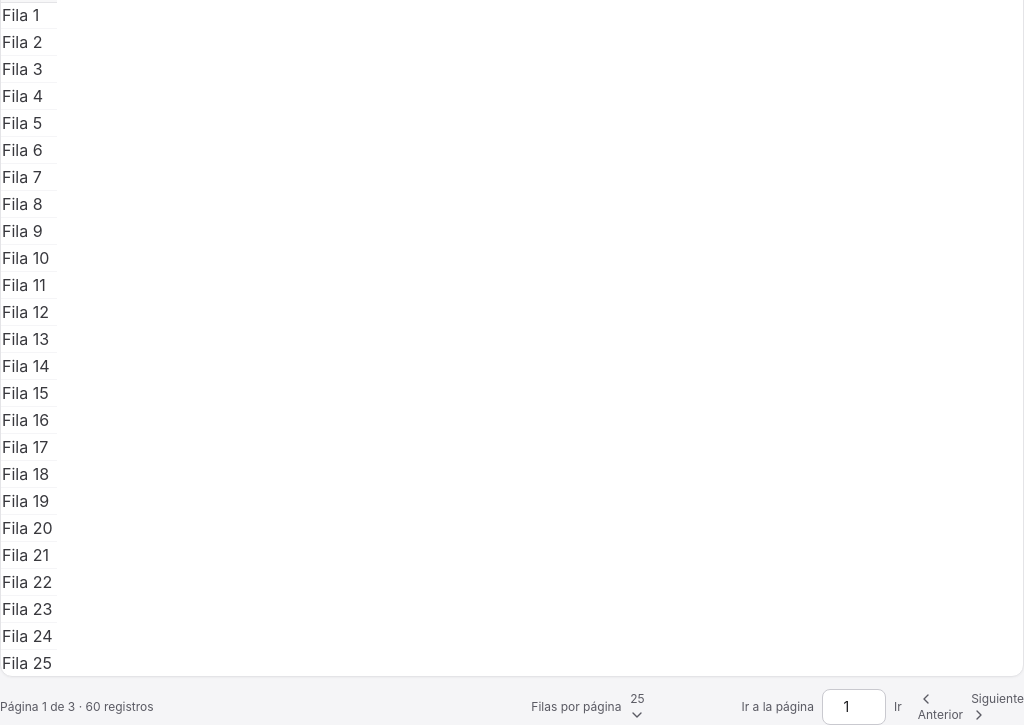
Test: DataTable · paginación › va directo a la página pedida y acota lo que se pasa del total
This screenshot has width=1024, height=725.
(page scrolled)
Replace the text in the number field named "Número de página" with "99" at (854, 706), box [822, 688, 886, 724]
Then press Enter
(page scrolled)
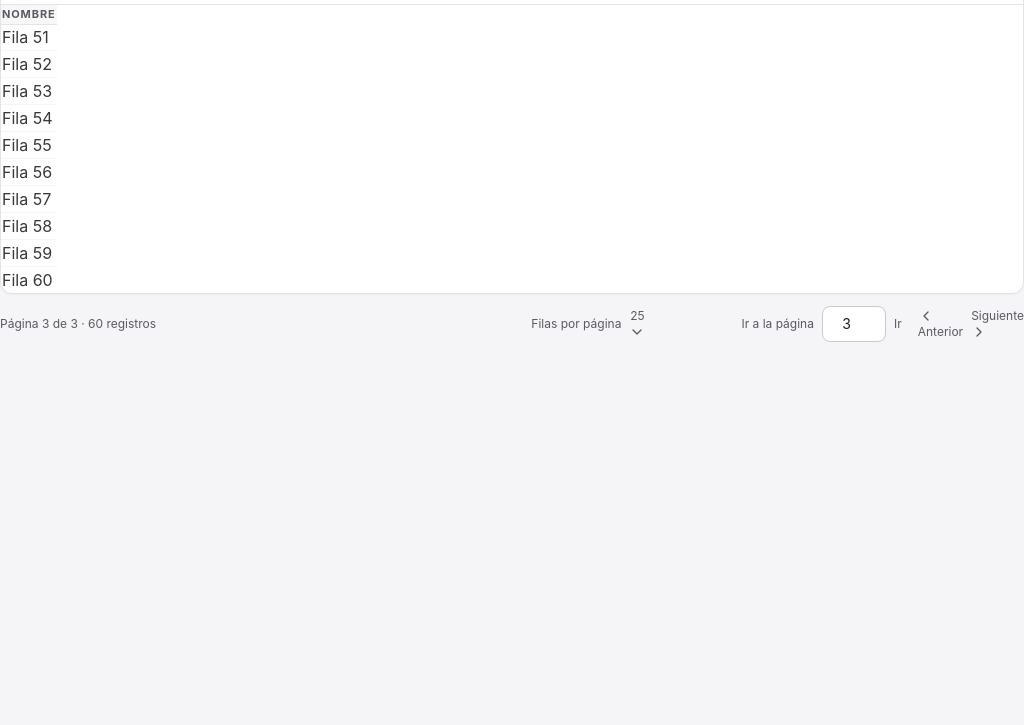
expect the text "Página 3 de 3 · 60 registros" is shown: met, box [0, 316, 156, 332]
expect the text "Fila 60" is shown: met, box [1, 266, 57, 292]
